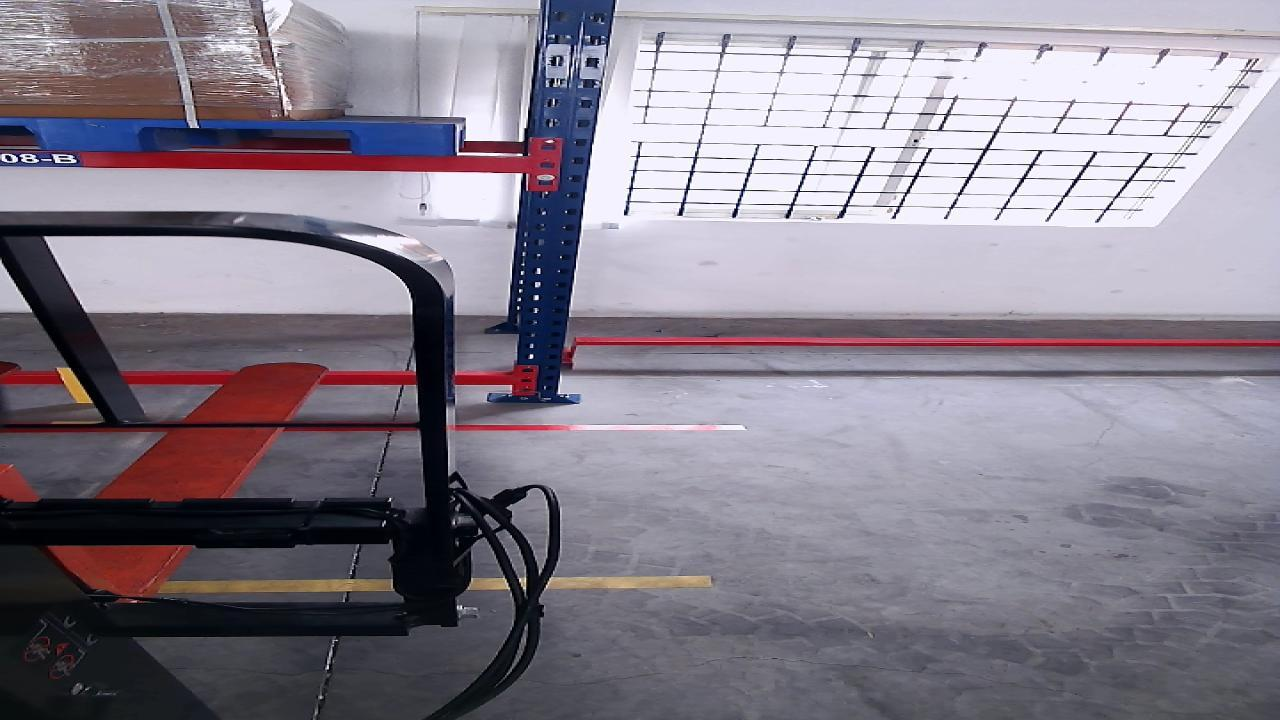h_rack: (2, 149, 518, 173), (2, 375, 510, 384)
small_pallet: (4, 119, 455, 154)
